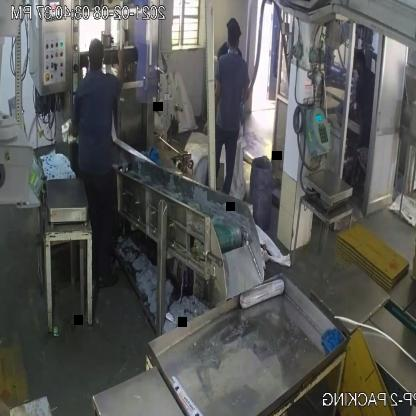no_glove: (108, 39, 130, 96)
